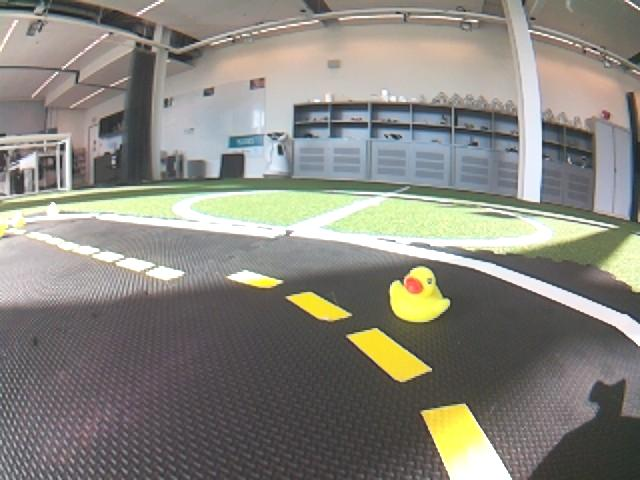Duckies: (390, 267, 450, 324), (47, 201, 59, 216), (13, 216, 27, 228), (0, 220, 7, 238)
